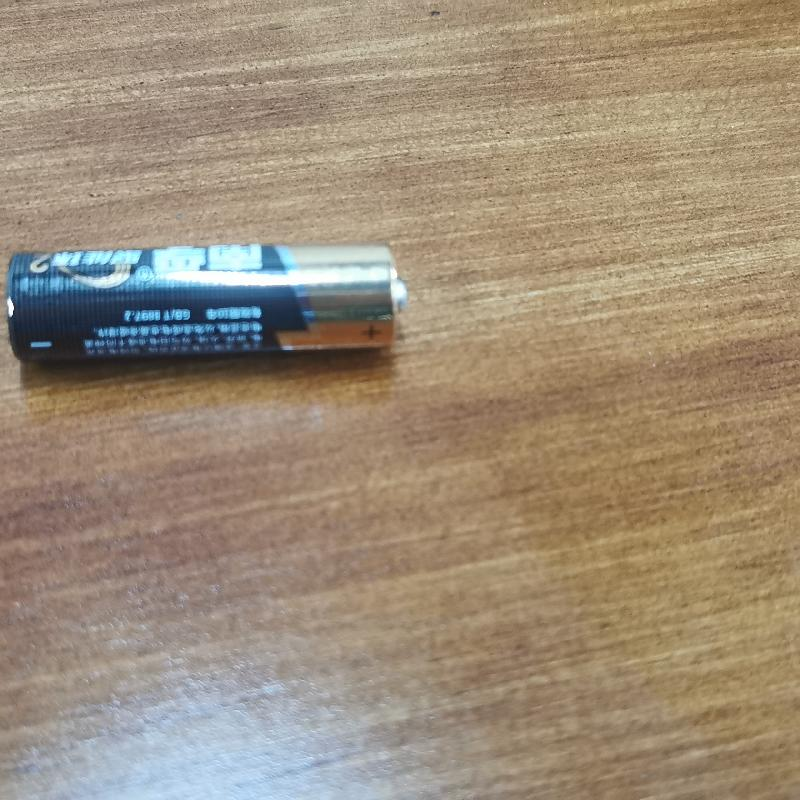battery: (9, 236, 421, 369)
